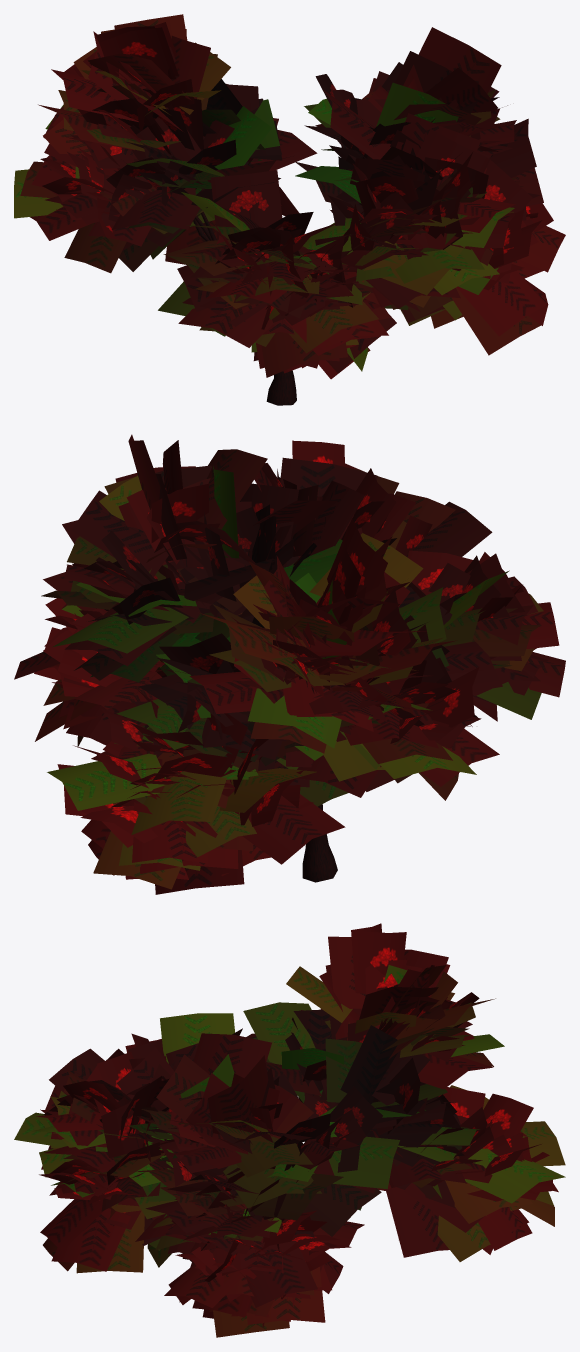
File: veg_gul1_far.glb
3 views of the same model, one above another, from view 1: azimuth 30°, elevation 25°; view 2: azimuth 150°, elevation 25°; view 3: azimuth 270°, elevation 25° (orthographic). The views are drawn at different scales.
Visible parts, largest first — view 1: gulmohar_1; view 2: gulmohar_1; view 3: gulmohar_1.
Part boxes in pixels (x1=…): gulmohar_1: x1=14, y1=14, x2=565, y2=405; gulmohar_1: x1=14, y1=434, x2=565, y2=894; gulmohar_1: x1=14, y1=923, x2=565, y2=1337.
Size of the model in its own units: 14.86 by 11.13 by 16.24.
Materials: 2 (2 with a texture image).
